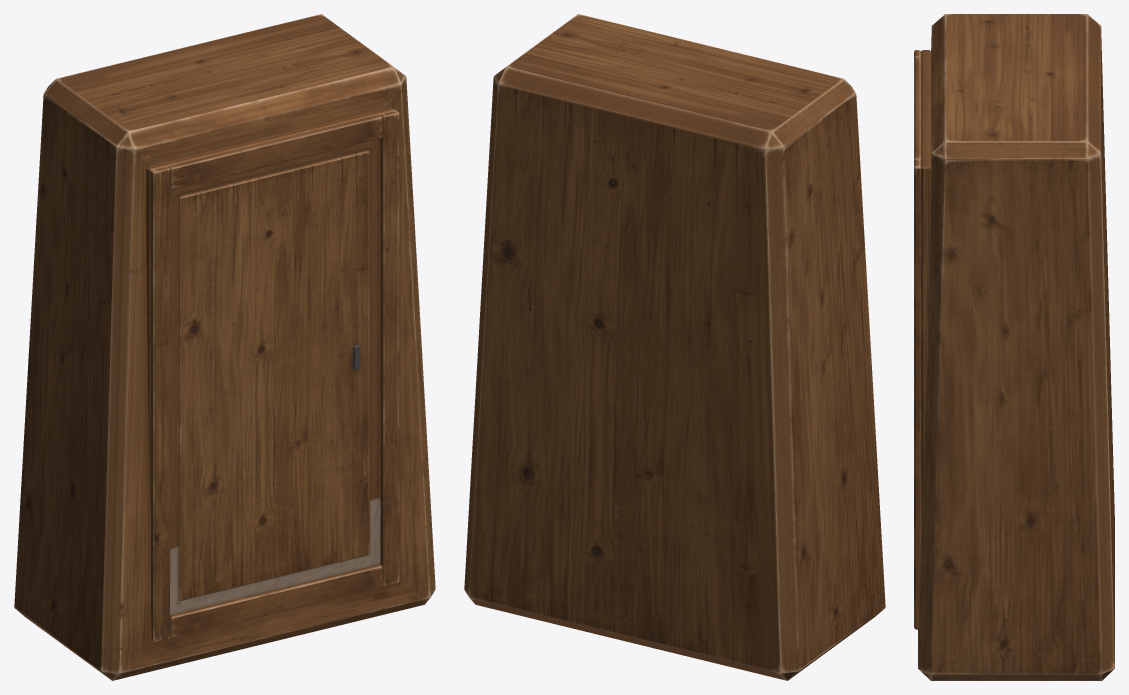
File: home-cupboard-generated-pbr-2k.glb
3 renders of one model, left to right at view 1: azimuth 30°, elevation 25°; view 2: azimuth 150°, elevation 25°; view 3: azimuth 270°, elevation 25°, orthographic.
Parts seen in each view (by area): view 1: HouseInterior_CupboardBody_LOD0, HouseInterior_CupboardDoor_LOD0; view 2: HouseInterior_CupboardBody_LOD0; view 3: HouseInterior_CupboardBody_LOD0, HouseInterior_CupboardDoor_LOD0.
Boxes of the visible parts, box(x1,y1,x2,y2) form: HouseInterior_CupboardBody_LOD0: box(14, 14, 435, 680); HouseInterior_CupboardDoor_LOD0: box(146, 107, 399, 642); HouseInterior_CupboardBody_LOD0: box(464, 14, 885, 680); HouseInterior_CupboardBody_LOD0: box(918, 14, 1114, 680); HouseInterior_CupboardDoor_LOD0: box(914, 50, 930, 629).
Size of the model in its own units: 1.58 by 2.42 by 0.8336.
1 material, 1 textured.
